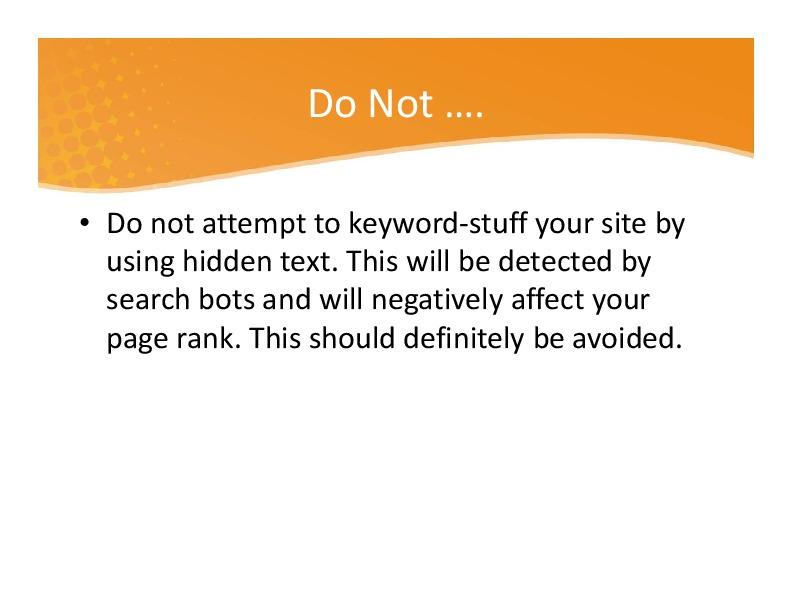paragraph: (72, 175, 731, 382)
title: (287, 67, 497, 139)
